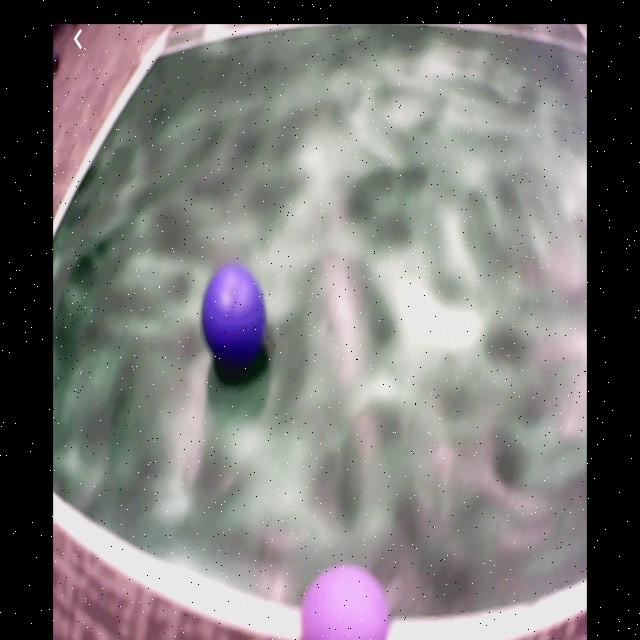ball: (301, 567, 389, 640), (203, 265, 266, 362)
